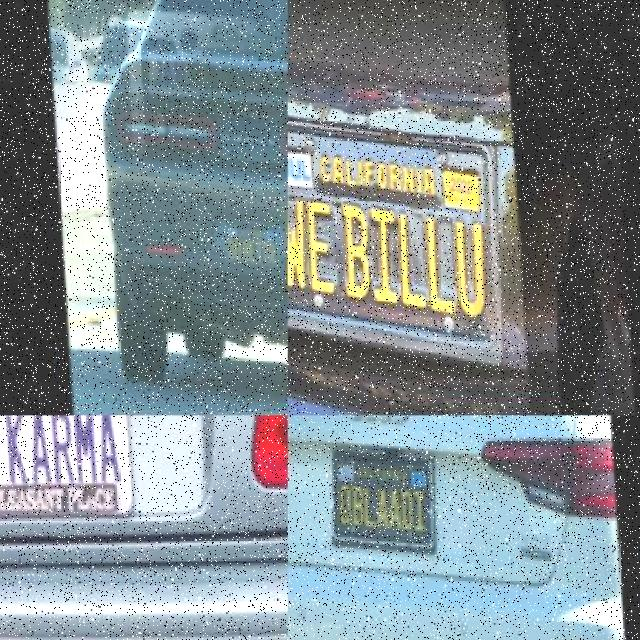licenseplate: (288, 97, 510, 366), (0, 415, 138, 521), (329, 433, 437, 549), (223, 206, 277, 269)
